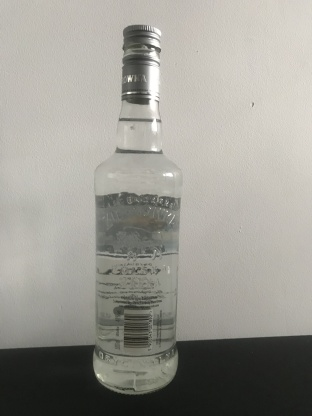nakretka: (119, 19, 162, 104)
